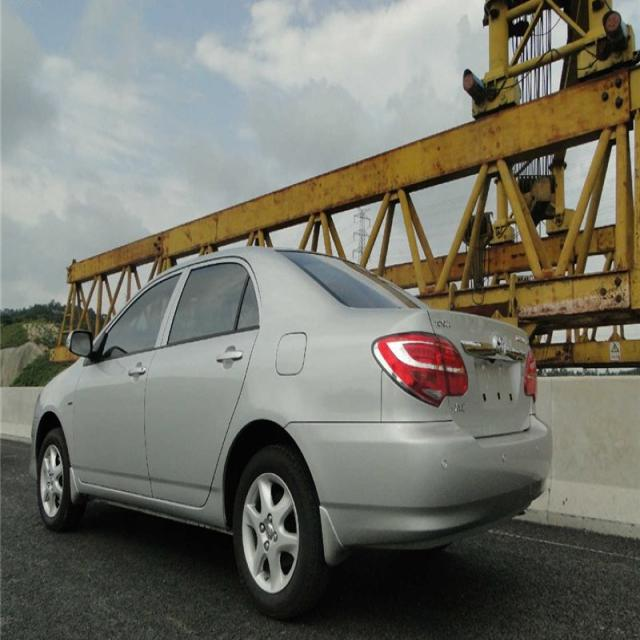back_glass: (278, 248, 424, 310)
back_left_side_light: (370, 332, 470, 407)
back_right_side_light: (520, 348, 538, 403)
door: (152, 253, 263, 505)
front_left_side_door: (71, 260, 190, 501)
front_left_side_mirror: (66, 326, 94, 359)
rear_bumper: (284, 411, 554, 551)
wheel: (234, 444, 315, 616), (39, 431, 74, 531)
